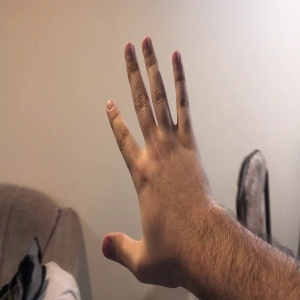hand: (102, 37, 216, 287)
